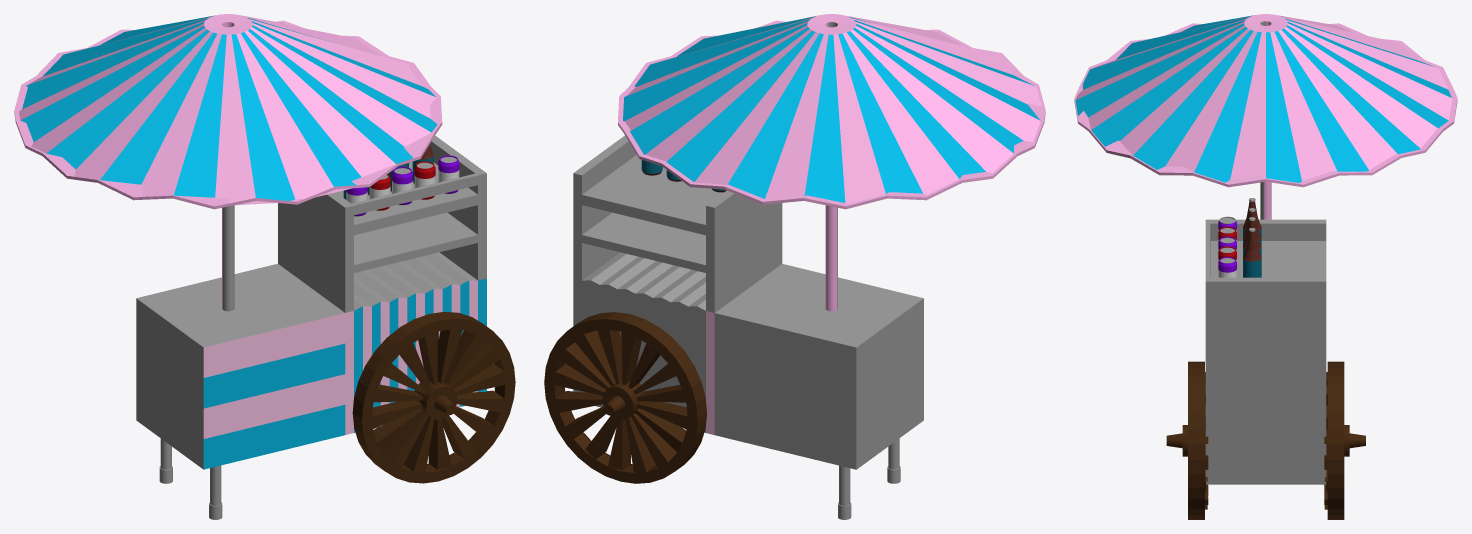
The model's file is VendorCart.fbx.
3 views of the same model, side by side, from view 1: azimuth 30°, elevation 25°; view 2: azimuth 150°, elevation 25°; view 3: azimuth 270°, elevation 25° (orthographic). The views are drawn at different scales.
Parts seen in each view (by area): view 1: Cylinder.001, Cube, Cylinder, Cylinder.003; view 2: Cube, Cylinder.001, Cylinder.002, Cylinder.004; view 3: Cylinder.001, Cube, Cylinder.002, Cylinder, Cylinder.013.
Boxes of the visible parts, bbox=[...] form: Cylinder.001: bbox=[14, 14, 442, 311]; Cube: bbox=[136, 135, 486, 469]; Cylinder: bbox=[352, 311, 515, 483]; Cylinder.003: bbox=[209, 465, 222, 519]; Cube: bbox=[573, 135, 923, 469]; Cylinder.001: bbox=[618, 14, 1045, 311]; Cylinder.002: bbox=[544, 312, 706, 483]; Cylinder.004: bbox=[838, 465, 851, 519]; Cylinder.001: bbox=[1074, 14, 1457, 219]; Cube: bbox=[1205, 219, 1326, 484]; Cylinder.002: bbox=[1324, 361, 1365, 519]; Cylinder: bbox=[1166, 361, 1208, 519]; Cylinder.013: bbox=[1243, 228, 1261, 277].
Size of the model in its own units: 736 by 763 by 636.
